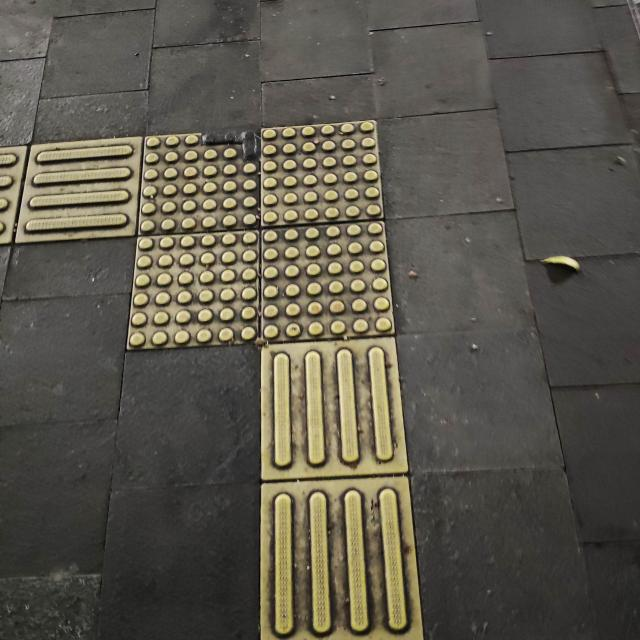kiri: (0, 89, 462, 453)
